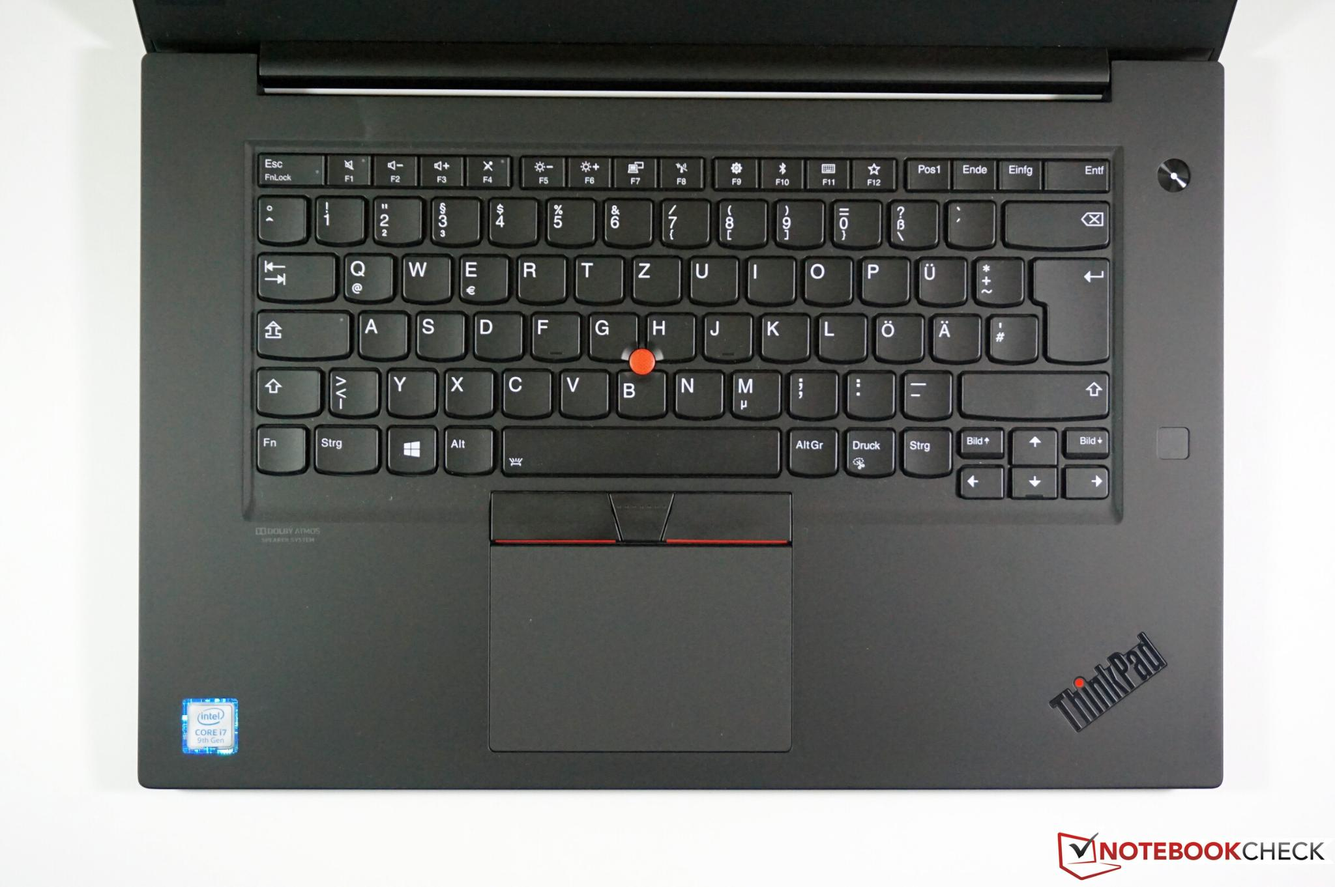0: (828, 196, 880, 246)
1: (313, 193, 364, 243)
2: (370, 193, 422, 243)
3: (428, 195, 480, 244)
4: (486, 195, 538, 244)
5: (543, 195, 594, 244)
6: (600, 196, 652, 244)
7: (659, 196, 709, 245)
8: (714, 197, 765, 245)
9: (771, 197, 823, 246)
a: (356, 308, 407, 358)
accent: (943, 197, 994, 246)
ae: (929, 310, 980, 361)
alt-left: (440, 424, 493, 474)
altgr-right: (784, 424, 836, 474)
b: (613, 369, 666, 417)
c: (499, 365, 551, 416)
caret: (254, 192, 304, 240)
comma: (785, 367, 836, 416)
d: (471, 309, 521, 359)
del: (1001, 198, 1111, 248)
e: (456, 252, 508, 302)
enter: (1029, 254, 1111, 362)
f: (529, 309, 579, 359)
g: (586, 309, 634, 359)
h: (643, 310, 695, 359)
hash: (985, 311, 1037, 360)
i: (744, 254, 795, 303)
j: (701, 309, 751, 359)
k: (757, 310, 810, 360)
keyboard: (246, 146, 1123, 513)
l: (815, 311, 866, 361)
less: (327, 365, 379, 415)
m: (728, 368, 781, 418)
minus: (898, 368, 950, 417)
n: (671, 367, 722, 417)
o: (800, 253, 851, 304)
oe: (872, 311, 923, 361)
p: (858, 254, 909, 304)
plus: (971, 253, 1022, 303)
point: (843, 368, 894, 417)
q: (340, 251, 394, 300)
r: (514, 253, 566, 302)
s: (413, 309, 465, 358)
shift-left: (251, 365, 319, 415)
shift-lock: (252, 307, 350, 358)
shift-right: (957, 367, 1110, 417)
space: (498, 423, 781, 475)
ss: (887, 198, 939, 246)
strg-left: (310, 422, 379, 473)
strg-right: (898, 425, 950, 475)
t: (572, 252, 622, 302)
tab: (253, 249, 335, 300)
u: (686, 253, 738, 303)
ue: (914, 254, 966, 305)
v: (557, 366, 609, 417)
w: (399, 251, 450, 300)
x: (443, 366, 494, 416)
y: (384, 366, 436, 416)
z: (630, 253, 681, 303)
